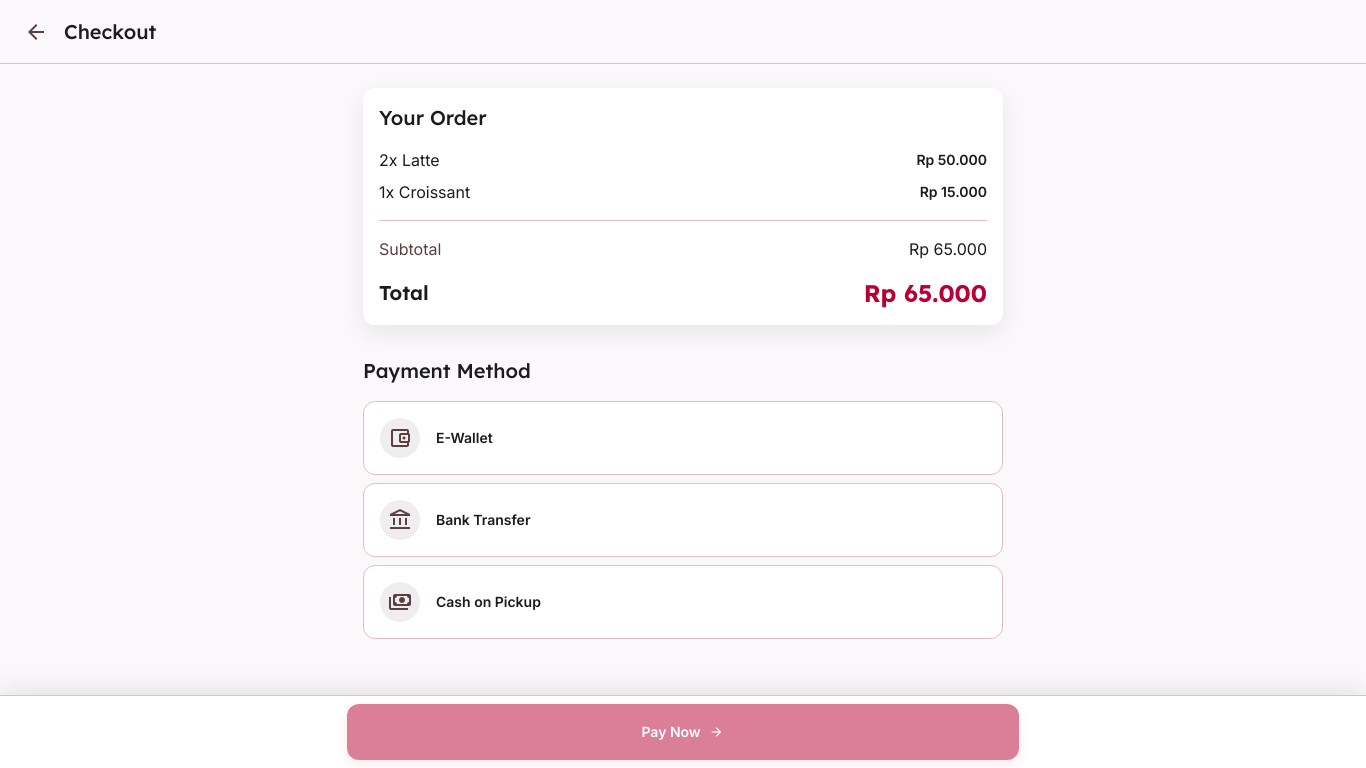
Scenario: CheckoutView › keeps "Pay Now" disabled until a payment method is selected (Requirement 12.11)
Check: the button with test id "checkout-pay-now" is disabled, box [347,704,1019,760]
Note: Select a method.
Click the radio button with test id "payment-method-e_wallet".
click(400, 438)  # box [363,401,1003,475]
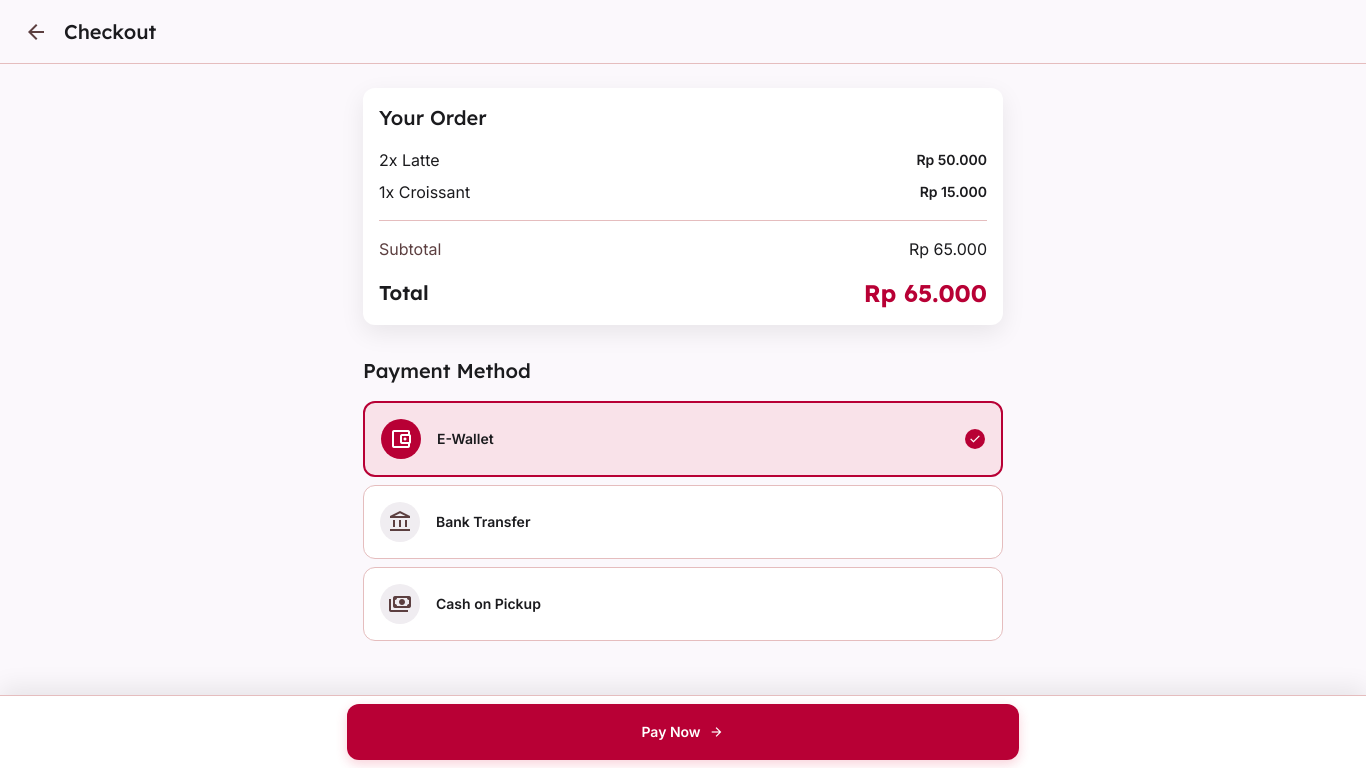
Check: the button with test id "checkout-pay-now" is enabled, box [347,704,1019,760]
